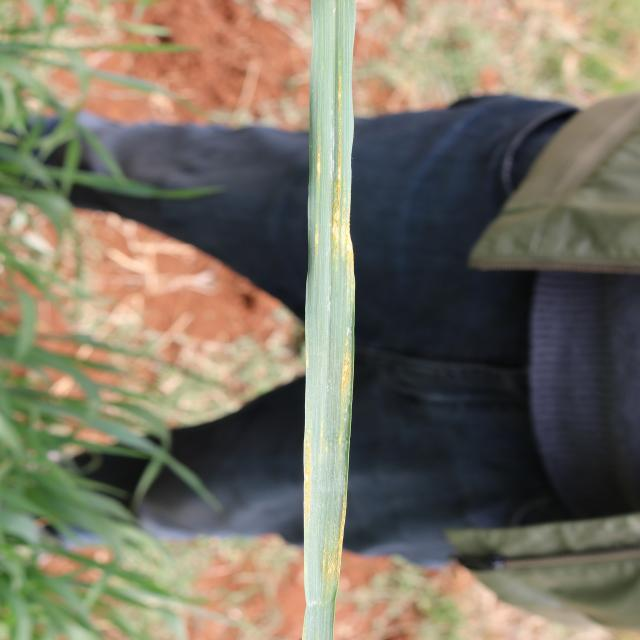Stripe Rust: (332, 75, 345, 258), (346, 240, 356, 304), (316, 142, 322, 186), (314, 224, 320, 261)
